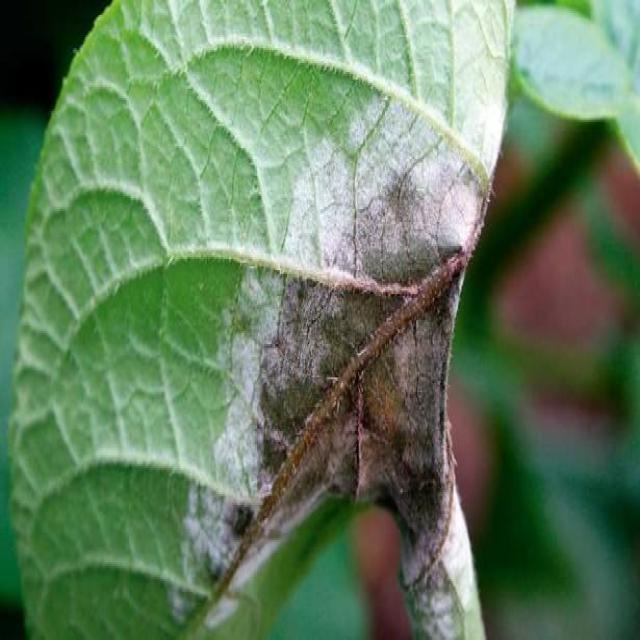Late Blight: (14, 2, 518, 640)
